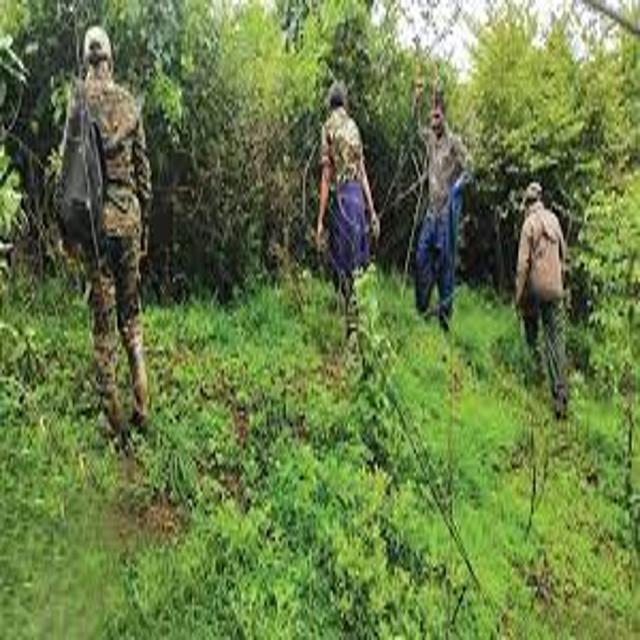backpack: (6, 61, 144, 278), (493, 198, 589, 333)
poacher: (20, 12, 229, 484), (272, 46, 410, 416), (473, 157, 629, 477), (378, 64, 497, 398)
